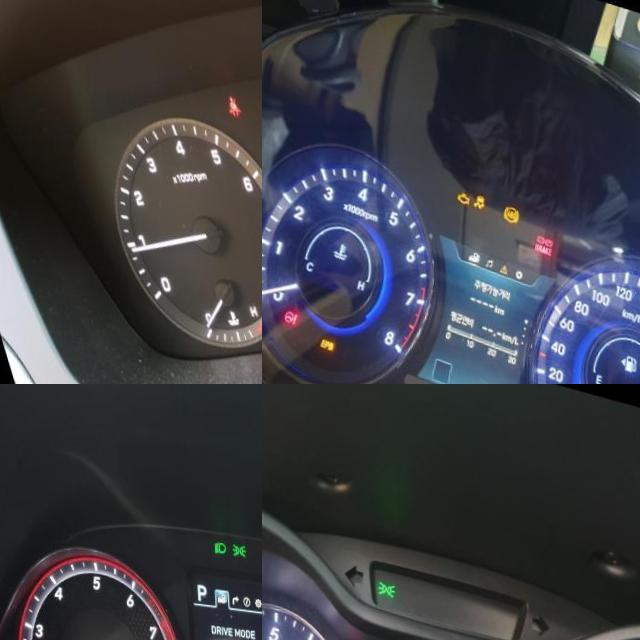Low beam: (210, 532, 223, 545)
SideLamp: (372, 570, 394, 591), (230, 534, 243, 549)
